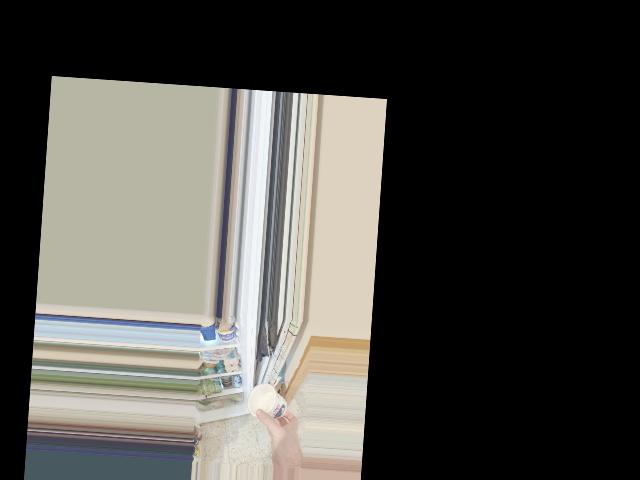cotage: (246, 381, 290, 423)
